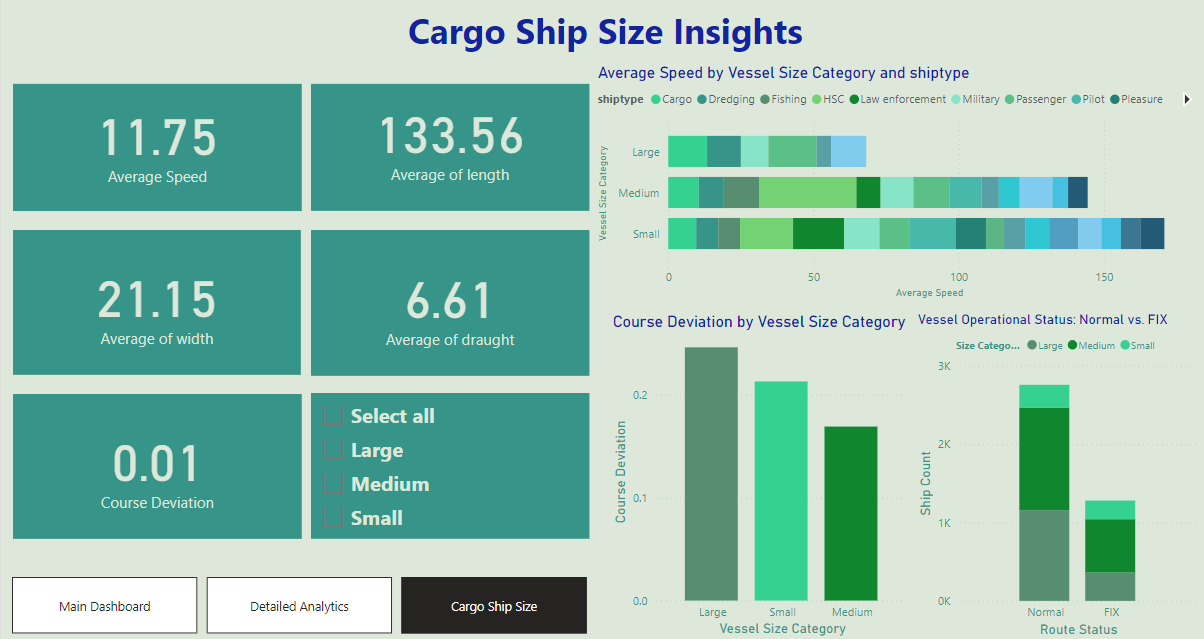

This screenshot's page, from the dashboard's own definition file:
{"tool":"powerbi","page":{"name":"Cargo Ship Size","canvas":[1280,720],"ordinal":2},"visuals":[{"type":"card","fields":{"Values":["path_to_cleaned_ais_data.Course Deviation"]},"box":[12.8,457.1,307.2,154.2],"z":0},{"type":"pageNavigator","box":[11.7,651.7,613.6,60.6],"z":1000},{"type":"slicer","fields":{"Values":["path_to_cleaned_ais_data.Vessel Size Category"]},"box":[329.6,456.1,295.5,155.2],"z":2000},{"type":"card","fields":{"Values":["path_to_cleaned_ais_data.Average Speed"]},"box":[12.8,111.6,307.2,151],"z":3000},{"type":"card","fields":{"Values":["Avg(path_to_cleaned_ais_data.width)"]},"box":[12.8,282.8,306.2,154.2],"z":4000},{"type":"card","fields":{"Values":["Avg(path_to_cleaned_ais_data.draught)"]},"box":[329.6,282.8,295.5,155.2],"z":5000},{"type":"card","fields":{"Values":["Avg(path_to_cleaned_ais_data.length)"]},"box":[329.6,108.4,295.5,154.2],"z":6000},{"type":"textbox","box":[11.7,40.9,1261.5,86.6],"z":7000},{"type":"barChart","fields":{"Category":["path_to_cleaned_ais_data.Vessel Size Category"],"Y":["path_to_cleaned_ais_data.Average Speed"],"Series":["path_to_cleaned_ais_data.shiptype"]},"box":[629.4,105.2,650.6,255.1],"z":8000},{"type":"clusteredColumnChart","fields":{"Category":["path_to_cleaned_ais_data.Vessel Size Category"],"Y":["path_to_cleaned_ais_data.Course Deviation"]},"box":[645.3,370,324.3,349.8],"z":9000},{"type":"columnChart","title":"Vessel Operational Status: Normal vs. FIX","fields":{"Category":["path_to_cleaned_ais_data.Route_Status"],"Y":["Count(path_to_cleaned_ais_data.mmsi)"],"Series":["path_to_cleaned_ais_data.Vessel Size Category"]},"box":[969.6,370,307.2,349.8],"z":10000}]}

Visuals, with their boxes on the page's 1280x720 design canvas (x1, y1, x2, y2). These are canvas units, not pixel positions in the 1204x639 screenshot, which may show the page scaled, cropped or inside an application window:
card - path_to_cleaned_ais_data.Course Deviation: 13,457,320,611
pageNavigator: 12,652,625,712
slicer - path_to_cleaned_ais_data.Vessel Size Category: 330,456,625,611
card - path_to_cleaned_ais_data.Average Speed: 13,112,320,263
card - Avg(path_to_cleaned_ais_data.width): 13,283,319,437
card - Avg(path_to_cleaned_ais_data.draught): 330,283,625,438
card - Avg(path_to_cleaned_ais_data.length): 330,108,625,263
textbox: 12,41,1273,128
barChart - path_to_cleaned_ais_data.Vessel Size Category x path_to_cleaned_ais_data.Average Speed: 629,105,1280,360
clusteredColumnChart - path_to_cleaned_ais_data.Vessel Size Category x path_to_cleaned_ais_data.Course Deviation: 645,370,970,720
"Vessel Operational Status: Normal vs. FIX" columnChart: 970,370,1277,720
